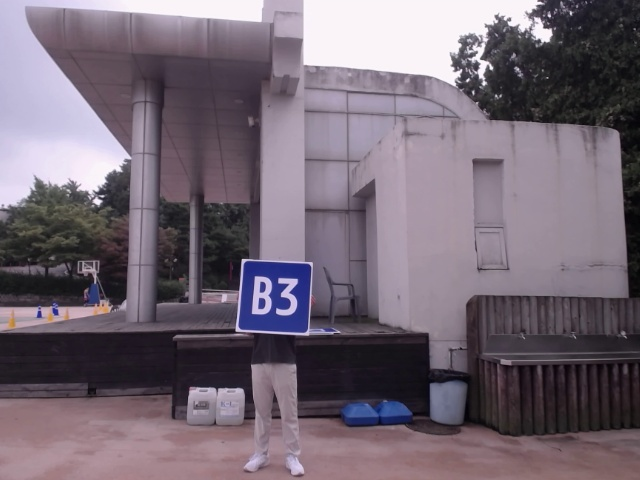delivery_b3: (238, 260, 313, 335)
